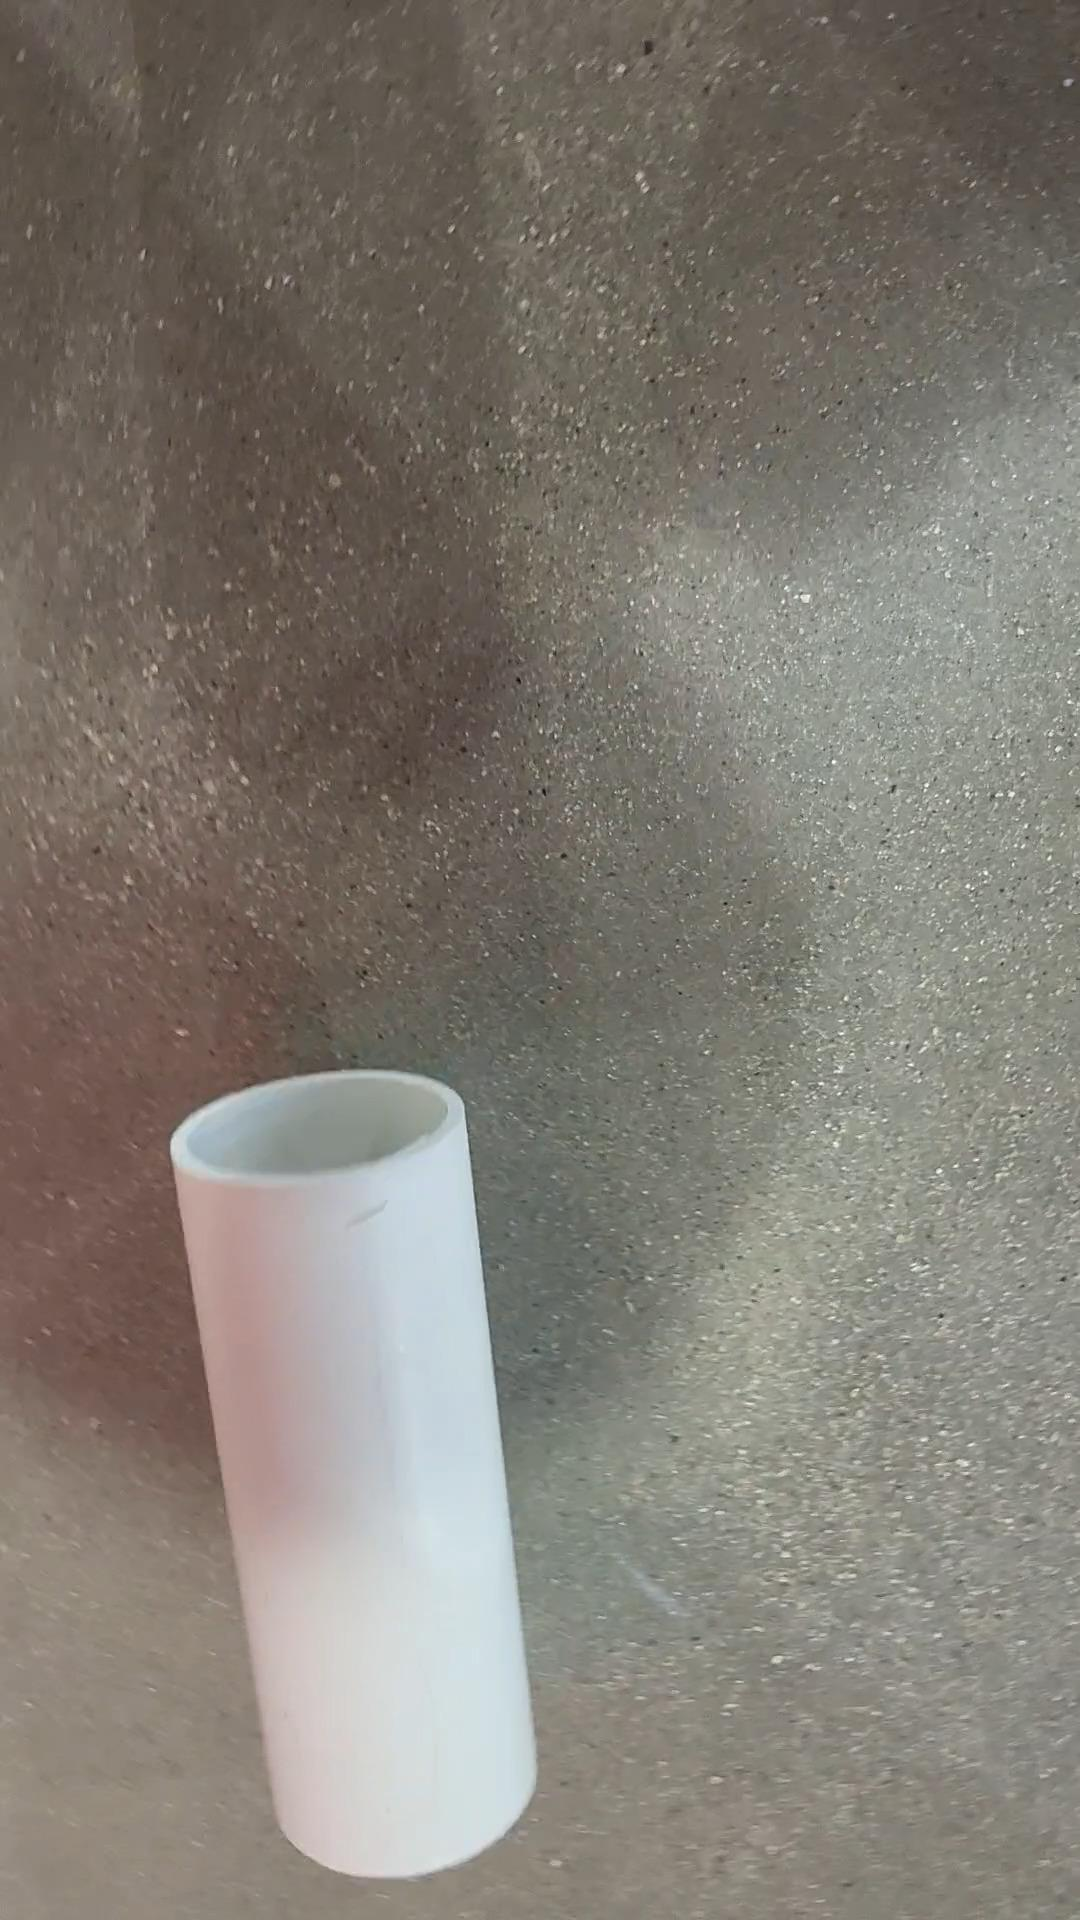coral: (170, 1075, 542, 1882)
